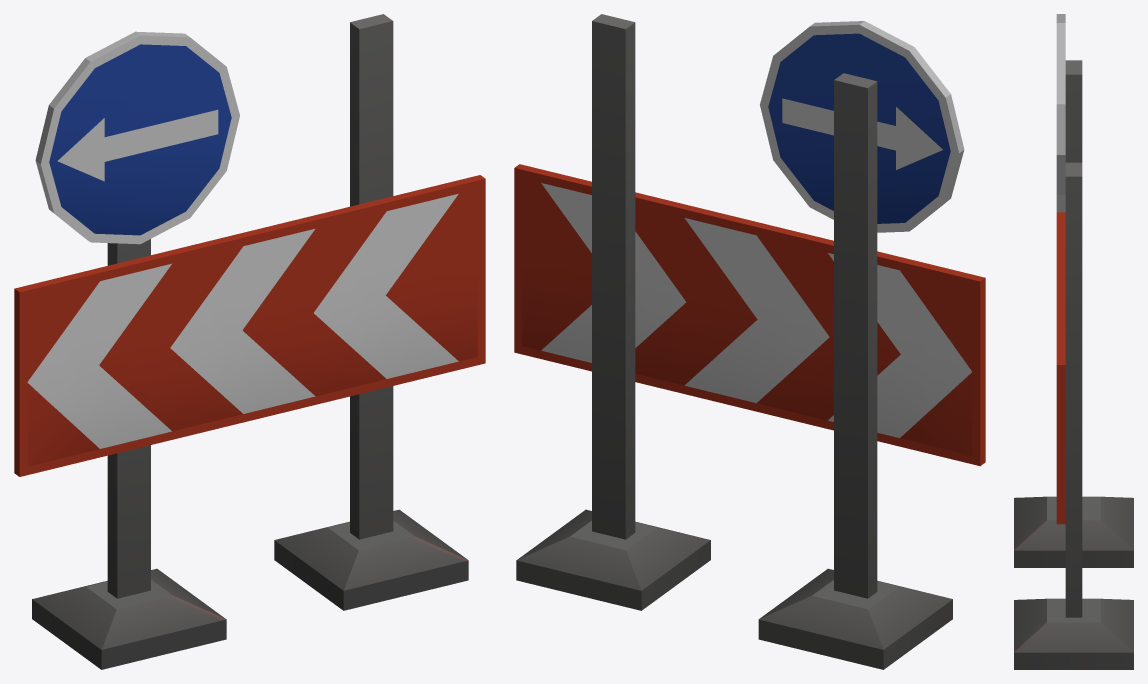
3 renders of one model, left to right at view 1: azimuth 30°, elevation 25°; view 2: azimuth 150°, elevation 25°; view 3: azimuth 270°, elevation 25°, orthographic. The views are drawn at different scales.
Parts seen in each view (by area): view 1: N_01; view 2: N_01; view 3: N_01.
Boxes of the visible parts, left/top/right/bottom form: N_01: left=14, top=14, right=485, bottom=669; N_01: left=514, top=14, right=985, bottom=669; N_01: left=1014, top=14, right=1133, bottom=669.
Size of the model in its own units: 143 by 176 by 36.93.
